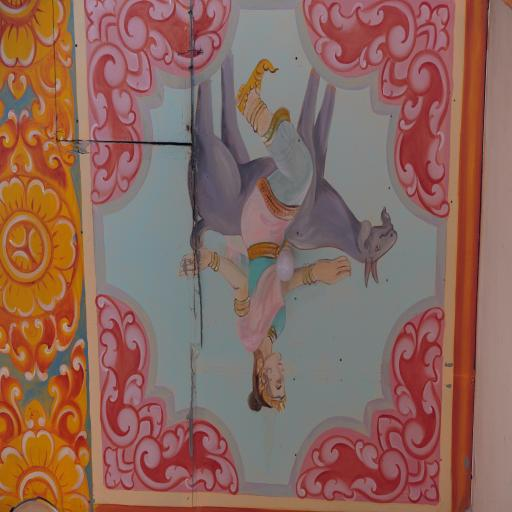hoa: (2, 174, 84, 315), (0, 431, 97, 512), (0, 0, 69, 65)
la: (297, 0, 453, 222), (78, 0, 233, 210), (294, 296, 445, 508), (95, 290, 247, 495), (0, 294, 83, 379), (44, 338, 94, 463), (0, 107, 70, 193), (30, 55, 79, 139), (0, 364, 26, 446)
than: (185, 51, 359, 413)
